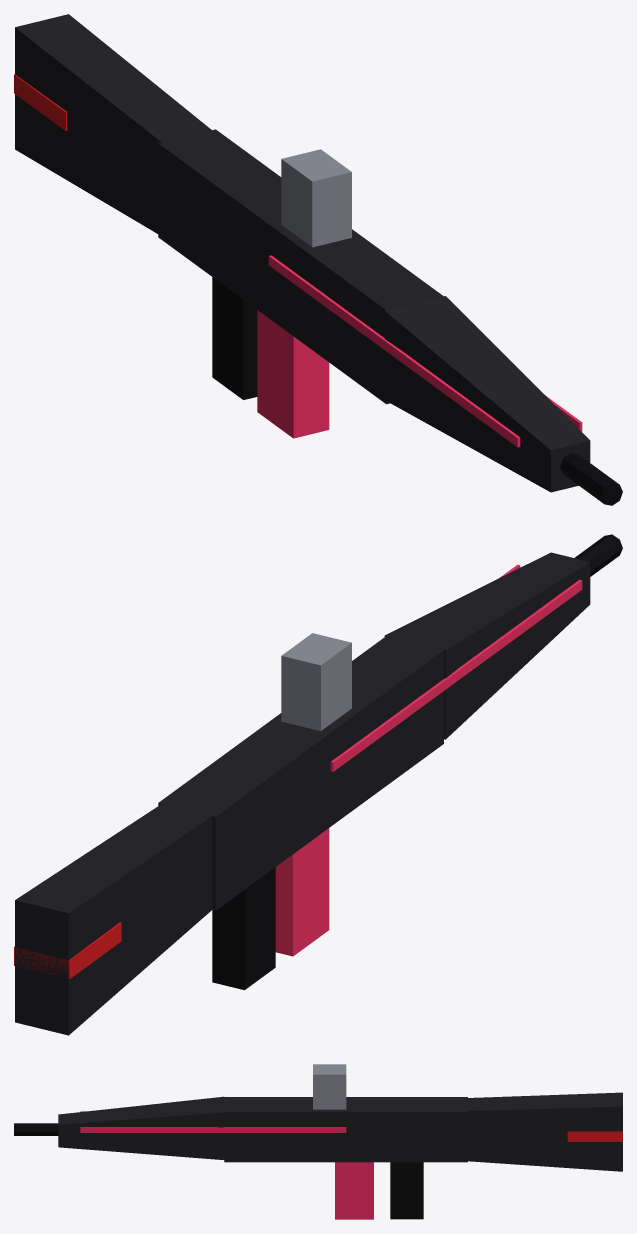
File: weapon_F2_PulseCarbine.obj
The picture shows the model from 3 angles, top to bottom: view 1: azimuth 30°, elevation 25°; view 2: azimuth 150°, elevation 25°; view 3: azimuth 270°, elevation 25°; orthographic projection. The views are drawn at different scales.
Parts seen in each view (by area): view 1: F2_PulseCarbine_WBody, F2_PulseCarbine_Cell, F2_PulseCarbine_WDark, F2_PulseCarbine_WPanel, F2_PulseCarbine_Energy, F2_PulseCarbine_WAccent; view 2: F2_PulseCarbine_WBody, F2_PulseCarbine_WDark, F2_PulseCarbine_WPanel, F2_PulseCarbine_Cell, F2_PulseCarbine_Energy, F2_PulseCarbine_WAccent; view 3: F2_PulseCarbine_WBody, F2_PulseCarbine_WDark, F2_PulseCarbine_Cell, F2_PulseCarbine_Energy, F2_PulseCarbine_WPanel, F2_PulseCarbine_WAccent.
Part boxes in pixels (box(x1,y1,x2,y2)): F2_PulseCarbine_WBody: box(15, 14, 590, 492); F2_PulseCarbine_Cell: box(257, 310, 329, 438); F2_PulseCarbine_WDark: box(212, 277, 622, 505); F2_PulseCarbine_WPanel: box(281, 149, 351, 247); F2_PulseCarbine_Energy: box(268, 255, 582, 447); F2_PulseCarbine_WAccent: box(14, 74, 67, 130); F2_PulseCarbine_WBody: box(15, 552, 590, 1035); F2_PulseCarbine_WDark: box(212, 534, 622, 990); F2_PulseCarbine_WPanel: box(281, 633, 351, 731); F2_PulseCarbine_Cell: box(275, 828, 329, 956); F2_PulseCarbine_Energy: box(330, 564, 582, 771); F2_PulseCarbine_WAccent: box(14, 922, 121, 979); F2_PulseCarbine_WBody: box(58, 1092, 622, 1171); F2_PulseCarbine_WDark: box(14, 1123, 423, 1219); F2_PulseCarbine_Cell: box(335, 1162, 373, 1219); F2_PulseCarbine_Energy: box(80, 1111, 346, 1132); F2_PulseCarbine_WPanel: box(313, 1064, 346, 1109); F2_PulseCarbine_WAccent: box(567, 1131, 622, 1141).
Size of the model in its own units: 0.072 by 0.29 by 1.1.
